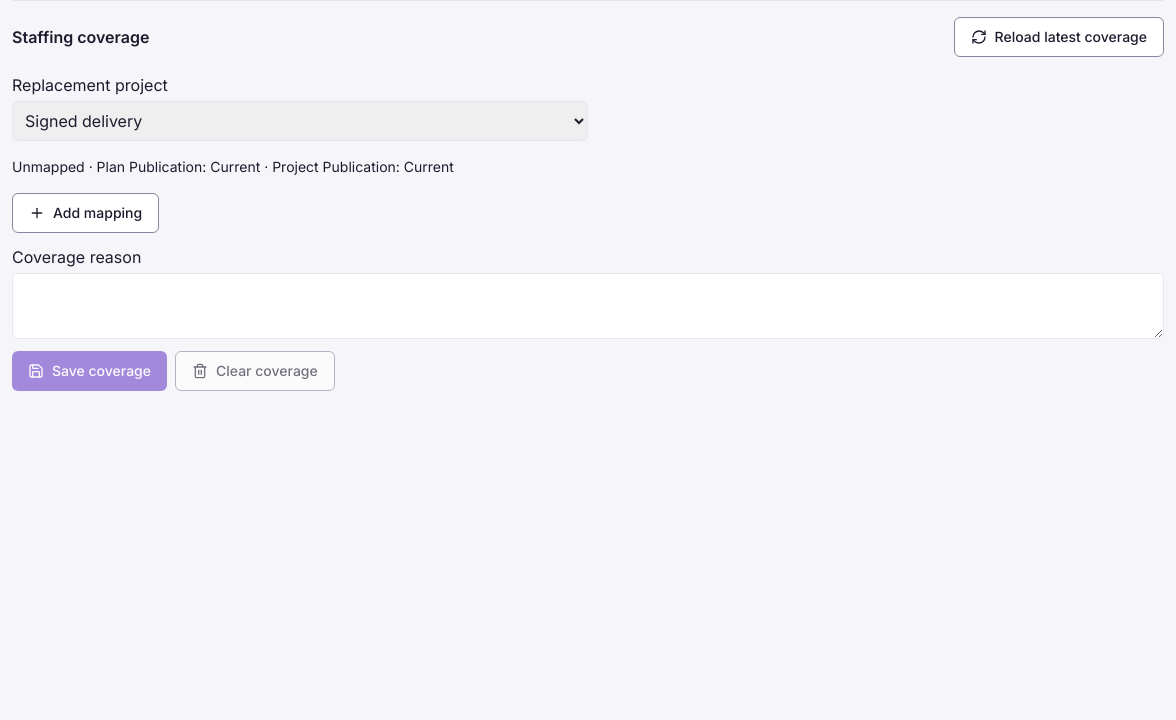
Test: new coverage prefills source lines and intersection dates but requires explicit count
The image size is (1176, 720).
What coordinates should you click on to do the following:
click the button "Add mapping"
I would click on:
 (86, 213)
Its box is [12,193,159,233].
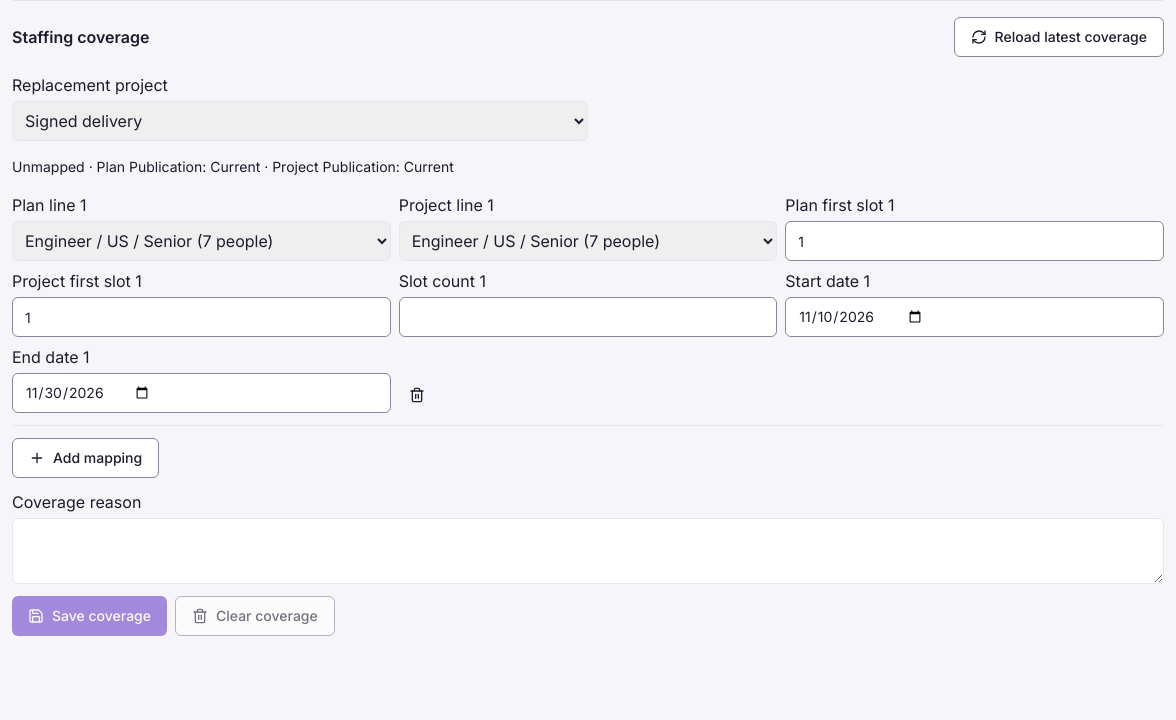
Expected: the number field labelled "Slot count 1" is not empty, [399,297,777,337]
Expected: the date field labelled "Start date 1" holds "2026-11-10", [785,297,1164,337]
Expected: the date field labelled "End date 1" holds "2026-11-30", [12,373,391,413]
